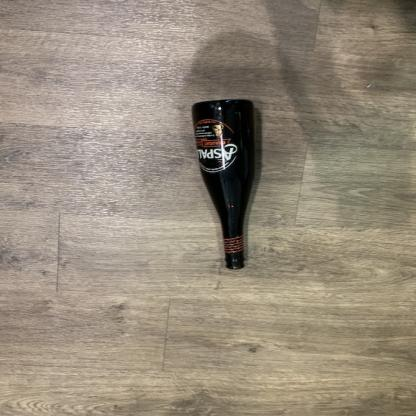trash: (186, 98, 262, 272)
